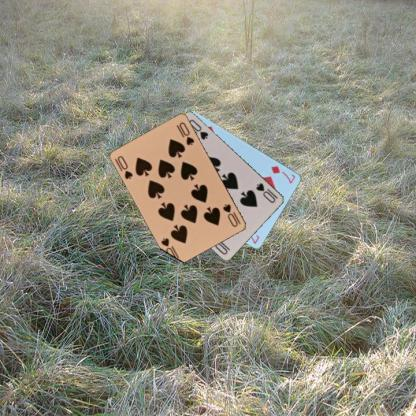10s: (254, 180, 279, 204), (220, 202, 242, 228), (115, 153, 134, 181)
7d: (269, 163, 297, 185)
